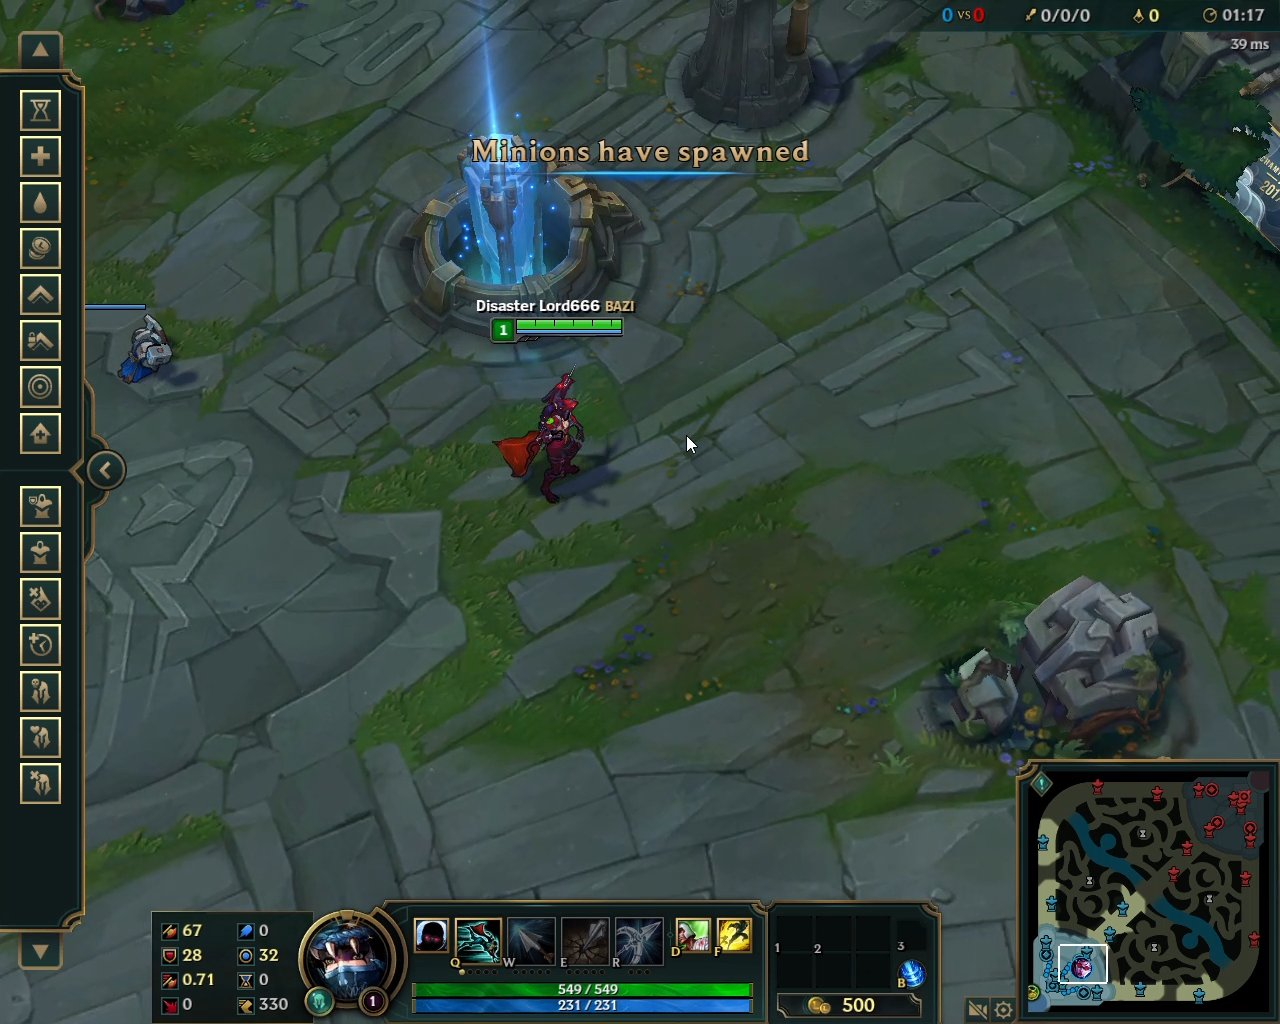Vayne: (489, 360, 592, 511)
